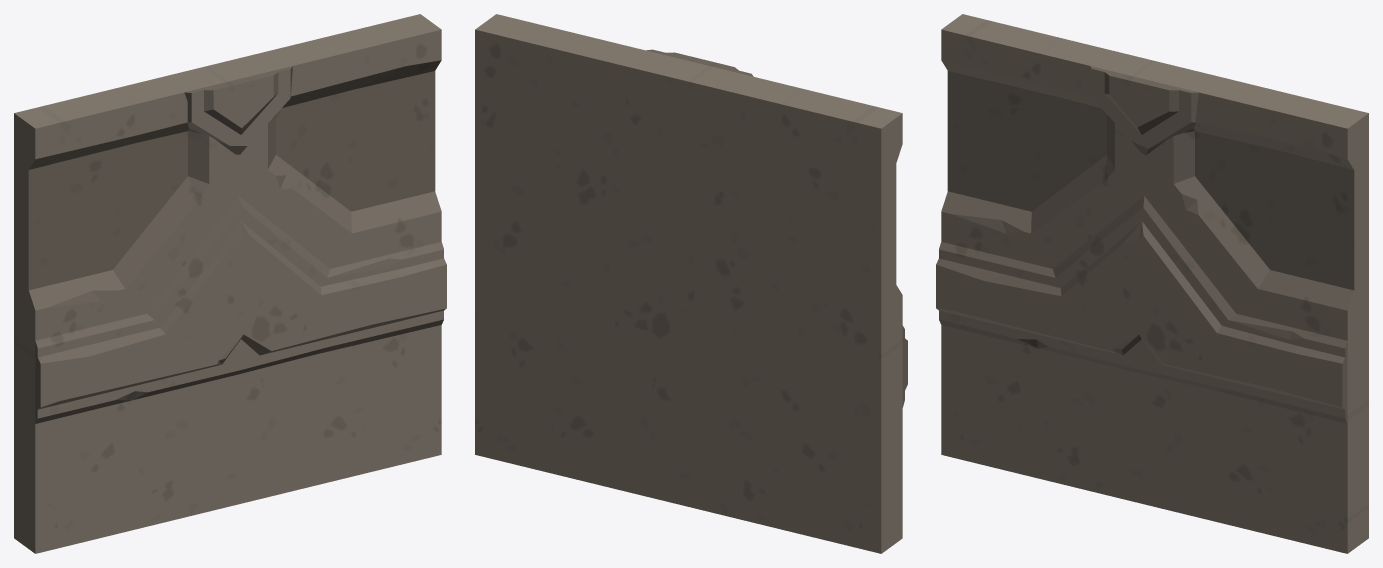
The model's file is wall.glb.
3 views of the same model, side by side, from view 1: azimuth 30°, elevation 25°; view 2: azimuth 150°, elevation 25°; view 3: azimuth 330°, elevation 25° (orthographic).
Parts seen in each view (by area): view 1: SM_Env_Dwarf_Wall_01; view 2: SM_Env_Dwarf_Wall_01; view 3: SM_Env_Dwarf_Wall_01.
Part boxes in pixels (left/top/right/bottom): SM_Env_Dwarf_Wall_01: left=14, top=14, right=446, bottom=553; SM_Env_Dwarf_Wall_01: left=475, top=14, right=907, bottom=553; SM_Env_Dwarf_Wall_01: left=936, top=14, right=1368, bottom=553.
Size of the model in its own units: 5 by 5 by 0.564.
1 material, 1 textured.
